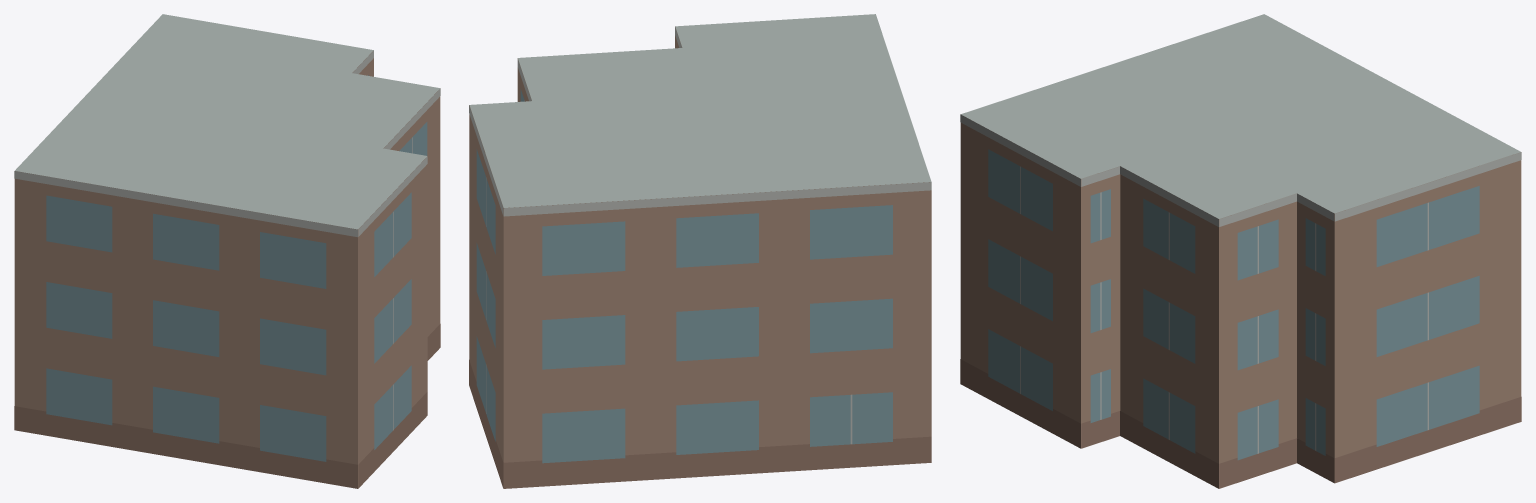
File: survey-upis-32785762.glb
3 views of the same model, side by side, from view 1: azimuth 30°, elevation 25°; view 2: azimuth 150°, elevation 25°; view 3: azimuth 270°, elevation 25° (orthographic). The views are drawn at different scales.
Visible parts, largest first — view 1: survey-upis-32785762.tmp; view 2: survey-upis-32785762.tmp; view 3: survey-upis-32785762.tmp.
Part boxes in pixels (x1,y1,x2,y2): survey-upis-32785762.tmp: (14, 14, 440, 488); survey-upis-32785762.tmp: (469, 14, 931, 488); survey-upis-32785762.tmp: (960, 14, 1521, 488).
Size of the model in its own units: 13.22 by 8.1 by 15.27.
